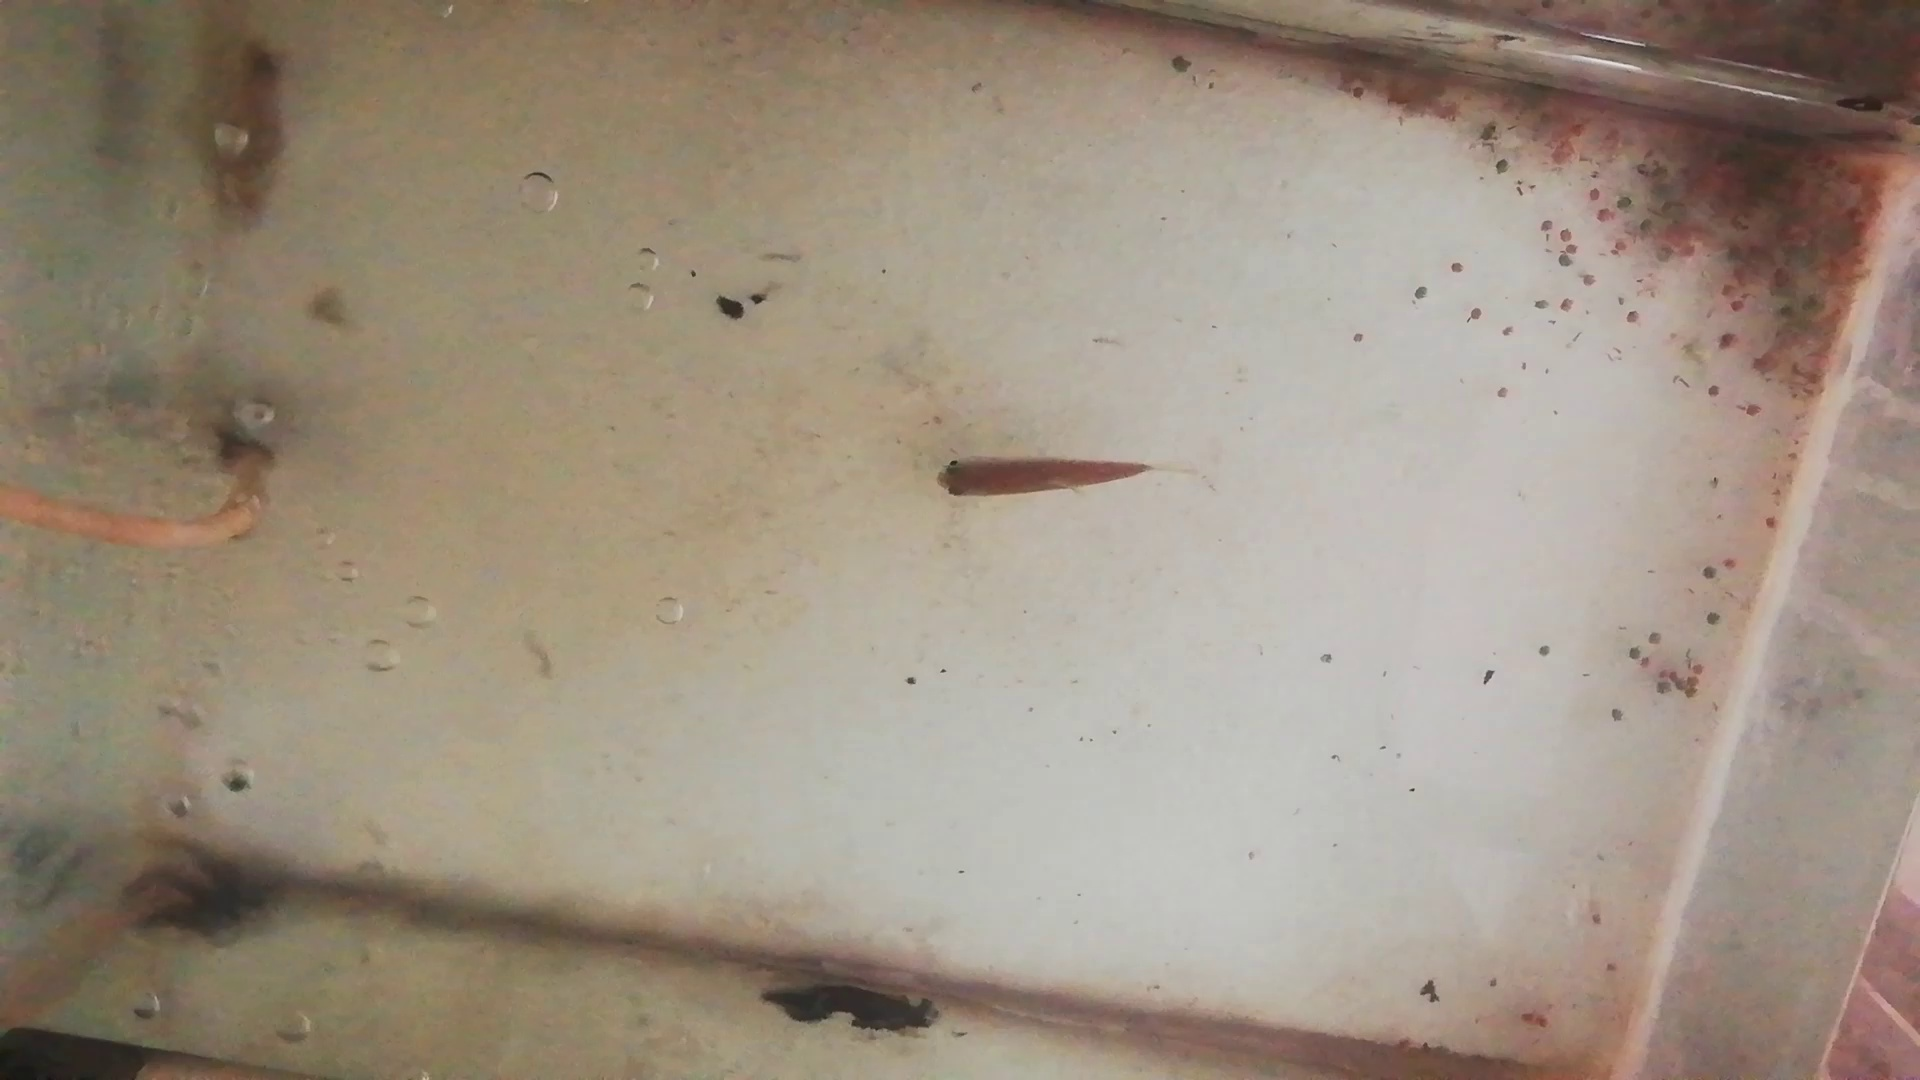fish: (216, 40, 286, 235), (926, 454, 1163, 502)
